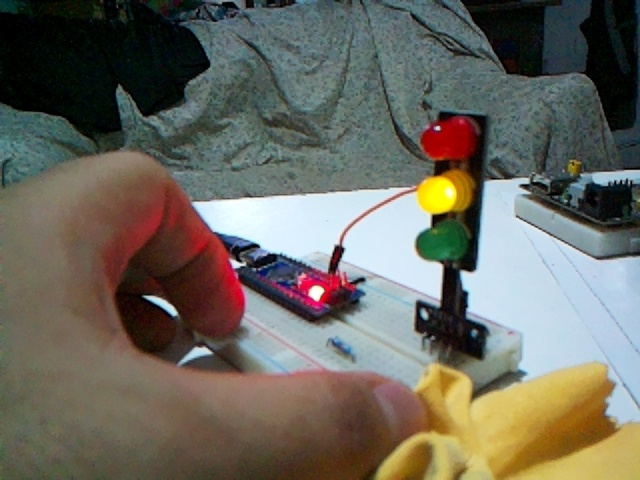traffic_light_yellow: (415, 111, 485, 355)
